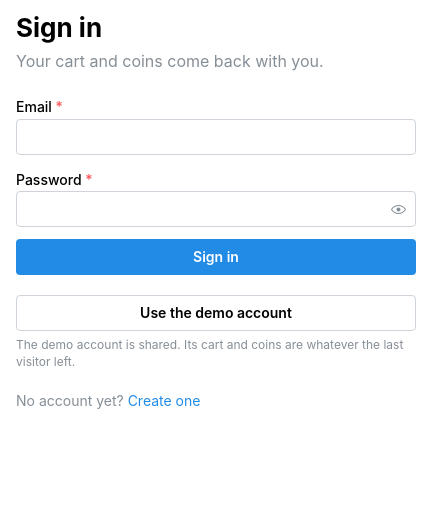
Test case: LoginPage › shows the server's reason and keeps the form
The width and height of the screenshot is (433, 532).
Type "ada@example.com" into the field labelled "Email *" at (216, 137), box x1=16 y1=119 x2=416 y2=155
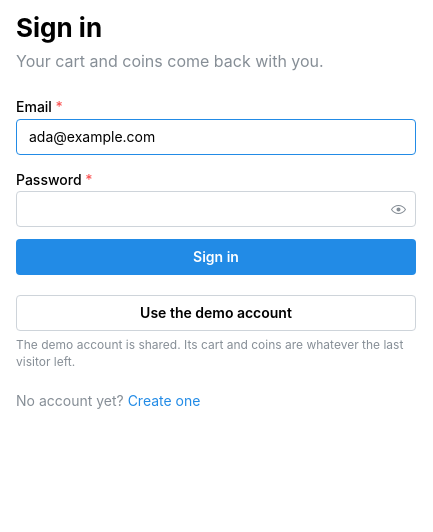
Type "wrong" into the password field labelled "Password *" at (216, 210), box x1=17 y1=192 x2=415 y2=226
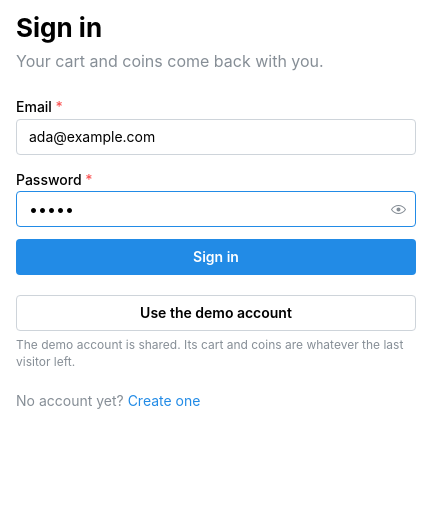
Click the button "Sign in" at (216, 258), box x1=16 y1=240 x2=416 y2=276
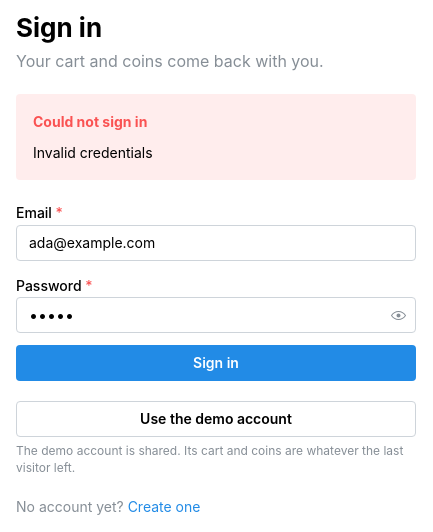
Expected: the button "Sign in" is shown, x1=16 y1=346 x2=416 y2=382
Expected: the text "Invalid credentials" is shown, x1=33 y1=144 x2=153 y2=161
